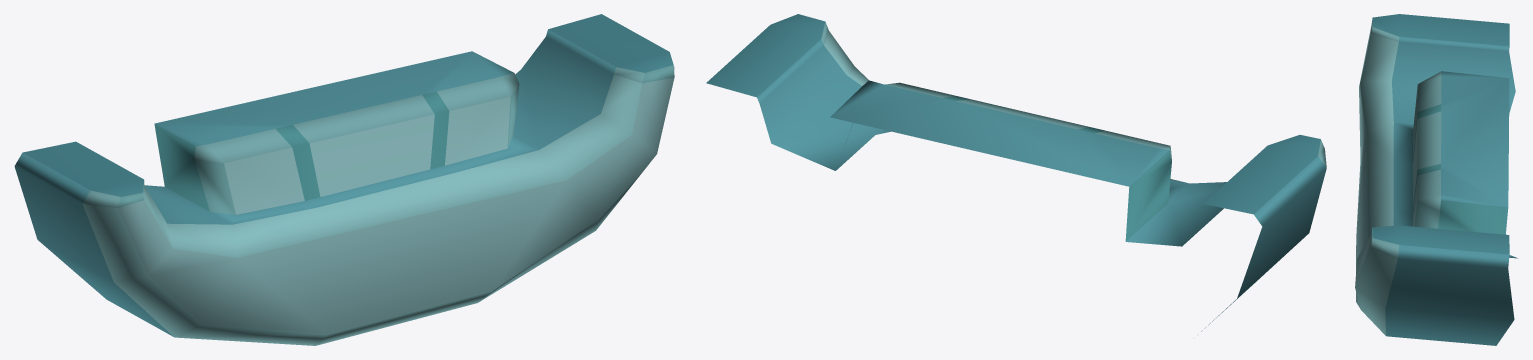
File: mouthBottom.glb
3 renders of one model, left to right at view 1: azimuth 30°, elevation 25°; view 2: azimuth 150°, elevation 25°; view 3: azimuth 270°, elevation 25°, orthographic. The views are drawn at different scales.
Parts seen in each view (by area): view 1: mouthBottom; view 2: mouthBottom; view 3: mouthBottom.
Part boxes in pixels (<box>): mouthBottom: <box>14,14,674,345</box>; mouthBottom: <box>706,14,1326,331</box>; mouthBottom: <box>1355,14,1518,345</box>.
Bounding box in the file's own units: 0.5152 × 0.1778 × 0.1528.
